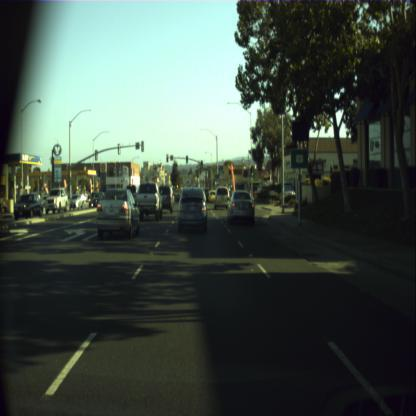Green: (250, 166, 254, 176), (186, 156, 188, 164), (200, 160, 202, 168), (217, 174, 218, 181)
Red: (166, 154, 168, 162)
